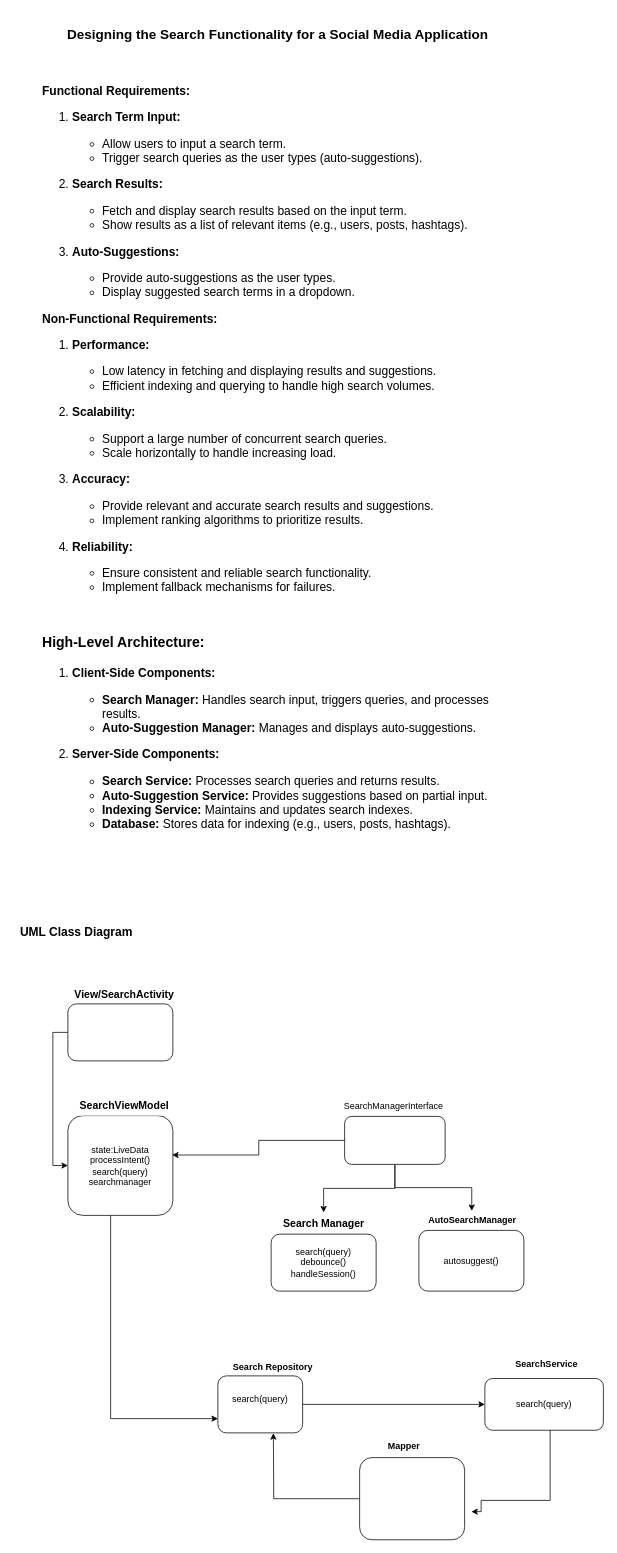
This 617x1553 diagram has some shape labels left out. Each missing label, with the centre of its shape:
mapToDomain() mapFromDomain(): [412,1498]
onCreate() render(state): [120,1032]
search(): [394,1140]
